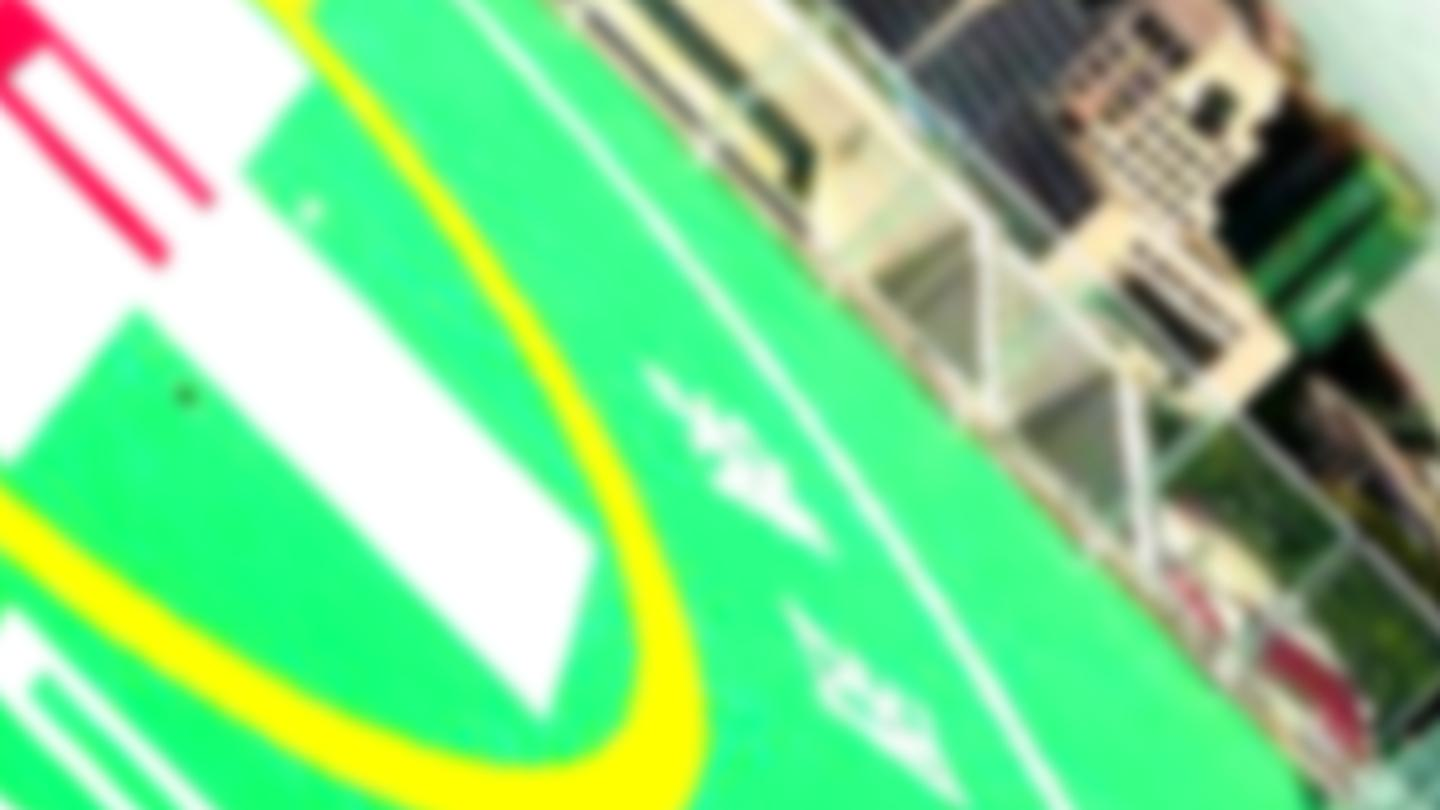Apron: (1, 1, 727, 807)
